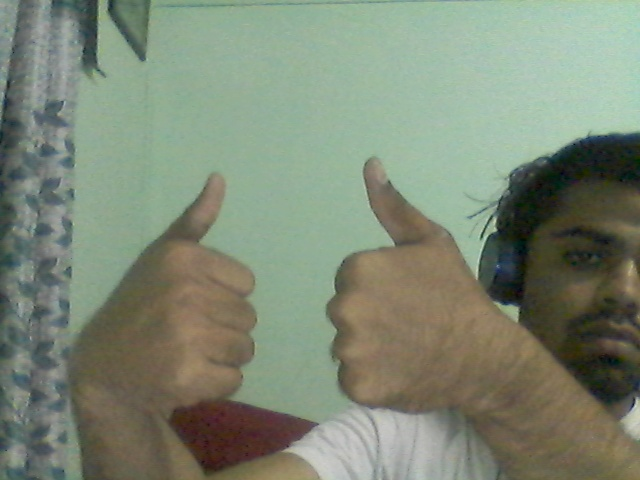Thank You: (55, 138, 510, 452)
